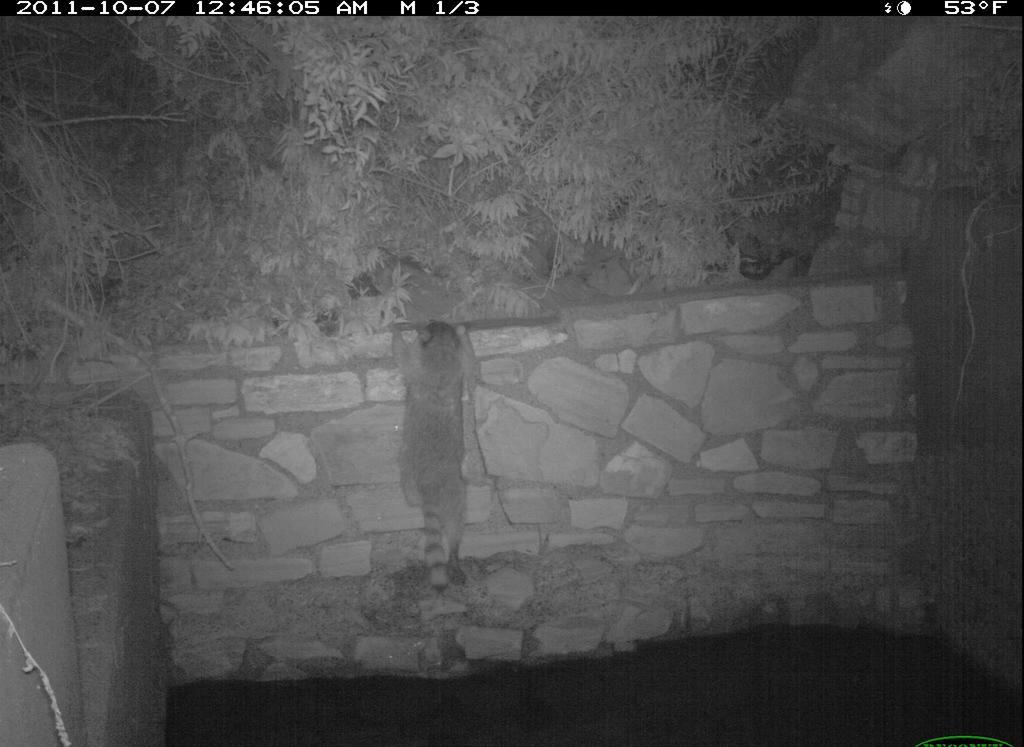raccoon: (383, 304, 496, 605)
